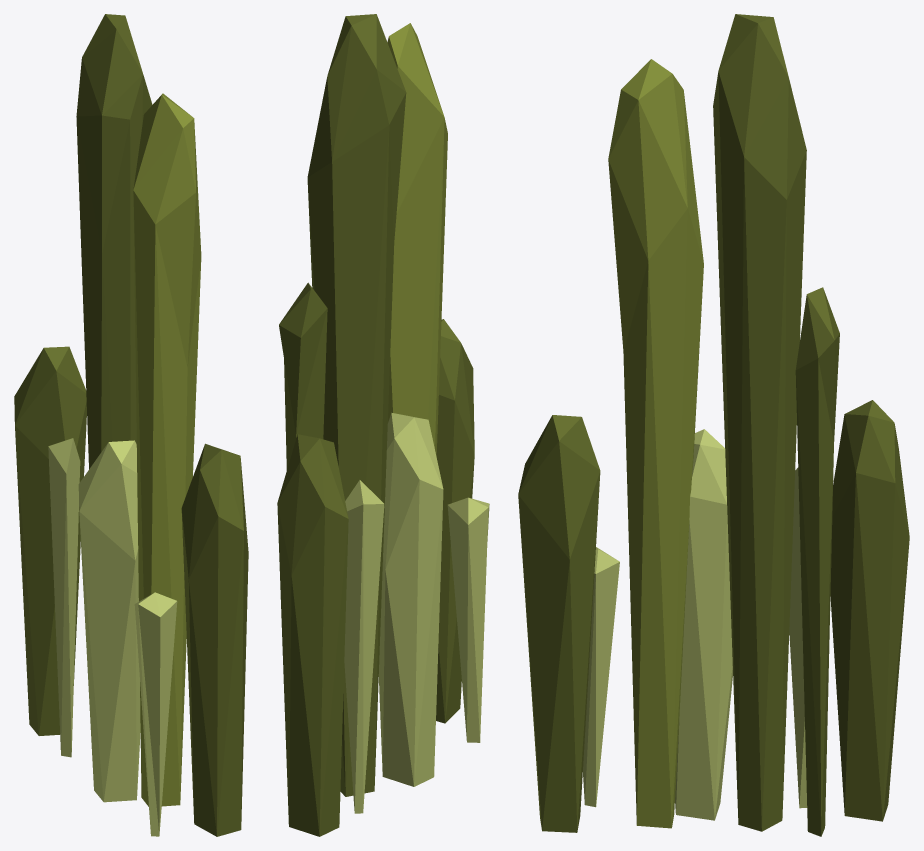
Rendered from ea_swamp_grass_01e_pre__22__lev1.glb.
3 renders of one model, left to right at view 1: azimuth 30°, elevation 25°; view 2: azimuth 150°, elevation 25°; view 3: azimuth 270°, elevation 25°, orthographic. The views are drawn at different scales.
Visible parts, largest first — view 1: ea_swamp_grass_01e_pre__22__lev1; view 2: ea_swamp_grass_01e_pre__22__lev1; view 3: ea_swamp_grass_01e_pre__22__lev1.
Boxes of the visible parts, x1=… form: ea_swamp_grass_01e_pre__22__lev1: x1=14, y1=14, x2=248, y2=836; ea_swamp_grass_01e_pre__22__lev1: x1=277, y1=14, x2=489, y2=836; ea_swamp_grass_01e_pre__22__lev1: x1=518, y1=14, x2=909, y2=836.
Size of the model in its own units: 0.747 by 5.04 by 2.22.
1 material, 1 textured.
